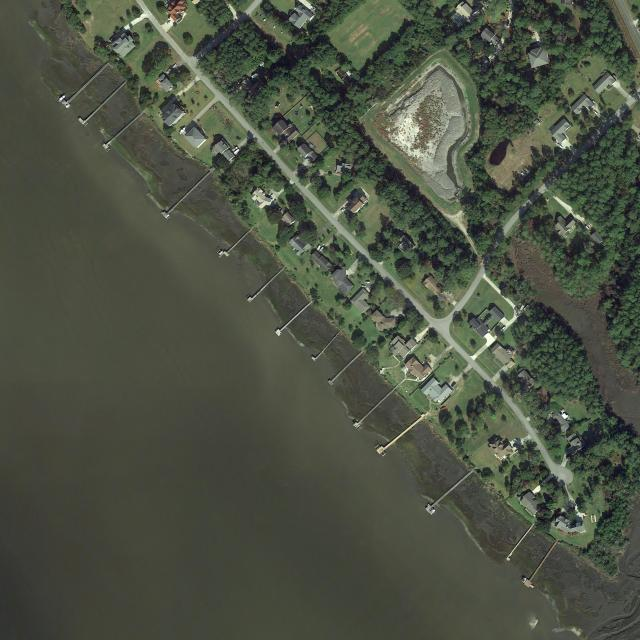ship: (178, 126, 187, 135), (58, 94, 67, 103), (251, 72, 260, 79), (233, 148, 241, 155), (274, 102, 281, 110), (524, 304, 531, 312), (260, 60, 267, 67), (429, 509, 436, 516), (227, 87, 234, 93), (521, 577, 527, 584), (518, 367, 525, 373), (519, 304, 525, 311), (310, 5, 317, 11), (166, 68, 172, 74), (218, 250, 224, 256), (316, 244, 321, 251), (586, 223, 592, 228), (521, 172, 526, 178), (501, 326, 506, 332), (66, 104, 71, 109), (165, 214, 170, 219)
small-vehicle: (490, 55, 496, 61), (440, 406, 446, 412), (593, 110, 598, 116), (109, 37, 115, 42), (237, 79, 242, 84), (234, 146, 239, 151), (350, 195, 355, 200), (451, 382, 456, 387), (516, 444, 521, 449), (319, 246, 324, 251), (340, 207, 345, 212), (279, 141, 284, 146), (506, 20, 510, 26), (172, 64, 177, 68), (273, 200, 277, 205), (513, 443, 518, 447), (270, 193, 273, 199), (532, 32, 535, 38), (365, 281, 371, 284), (167, 20, 171, 24), (168, 14, 171, 19), (361, 285, 366, 288)
